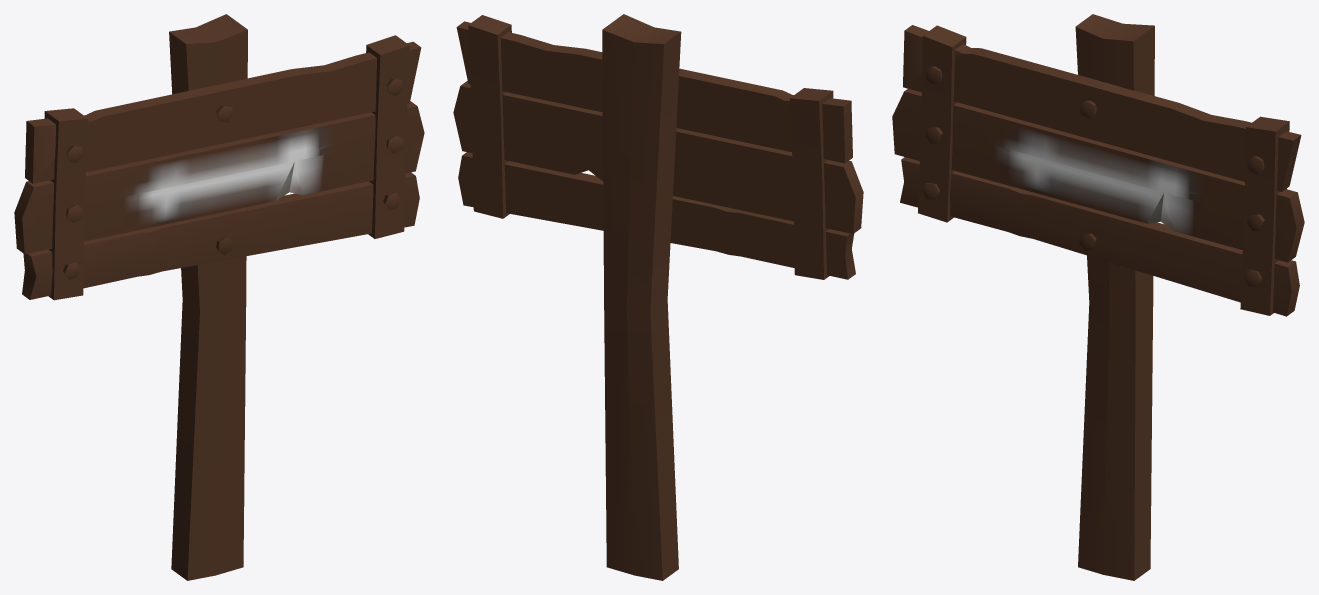
The model's file is Sign.fbx.
3 renders of one model, left to right at view 1: azimuth 30°, elevation 25°; view 2: azimuth 150°, elevation 25°; view 3: azimuth 330°, elevation 25°, orthographic.
Parts seen in each view (by area): view 1: Sign; view 2: Sign; view 3: Sign.
Part boxes in pixels (bbox=[...]): Sign: bbox=[14, 14, 424, 580]; Sign: bbox=[453, 14, 863, 580]; Sign: bbox=[892, 14, 1304, 580].
Size of the model in its own units: 24.12 by 30.89 by 3.76.
